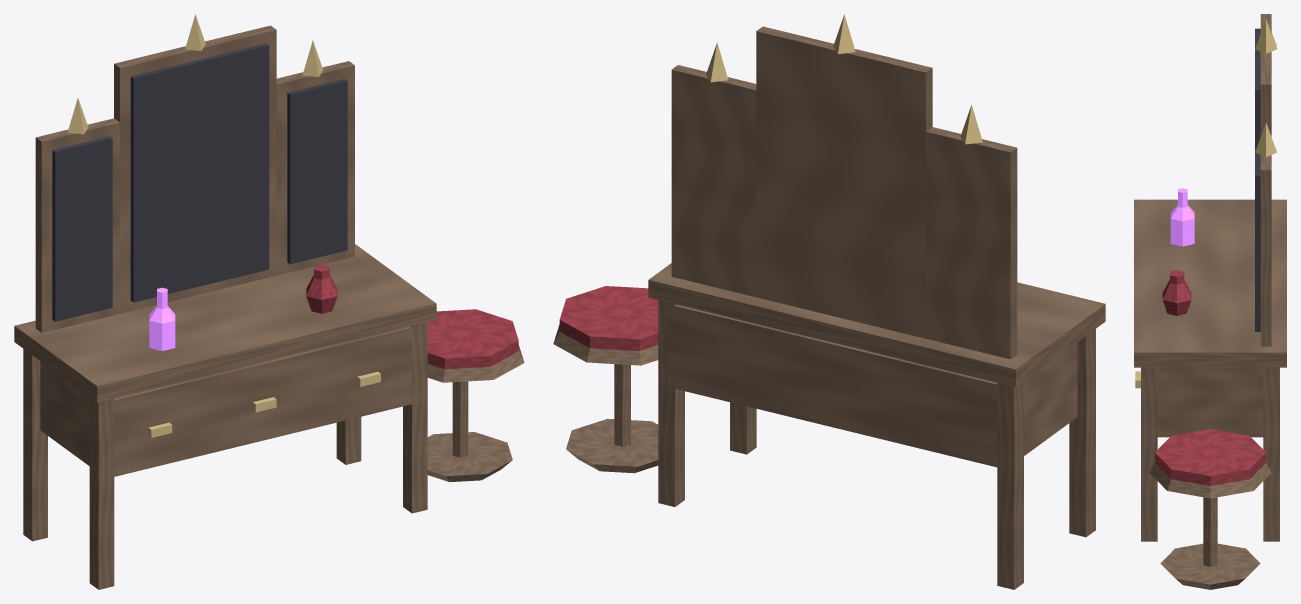
3 renders of one model, left to right at view 1: azimuth 30°, elevation 25°; view 2: azimuth 150°, elevation 25°; view 3: azimuth 270°, elevation 25°, orthographic. The views are drawn at different scales.
Parts seen in each view (by area): view 1: dressing-table; view 2: dressing-table; view 3: dressing-table.
Boxes of the visible parts, x1,y1,x2,y2 form: dressing-table: (14,14,524,589); dressing-table: (553,14,1105,589); dressing-table: (1134,14,1286,589).
Size of the model in its own units: 1.77 by 1.78 by 0.55.
Materials: 5 (2 with a texture image).
